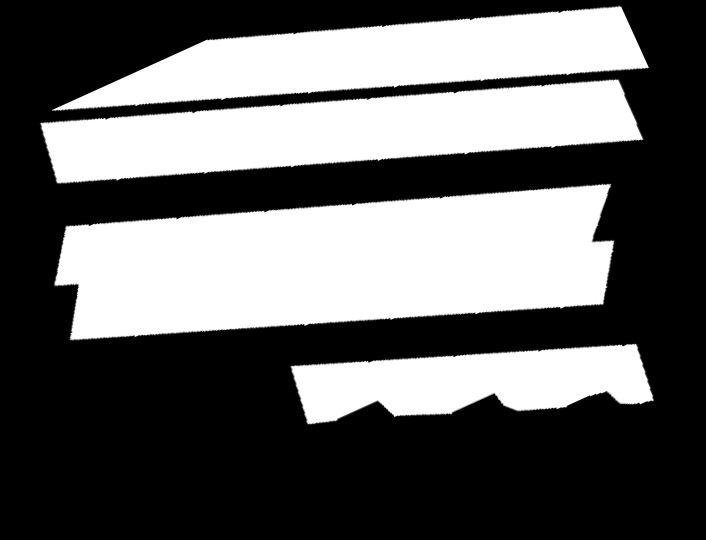parkingspot: (54, 184, 614, 340), (40, 79, 643, 183), (52, 6, 649, 111), (291, 344, 654, 424)
